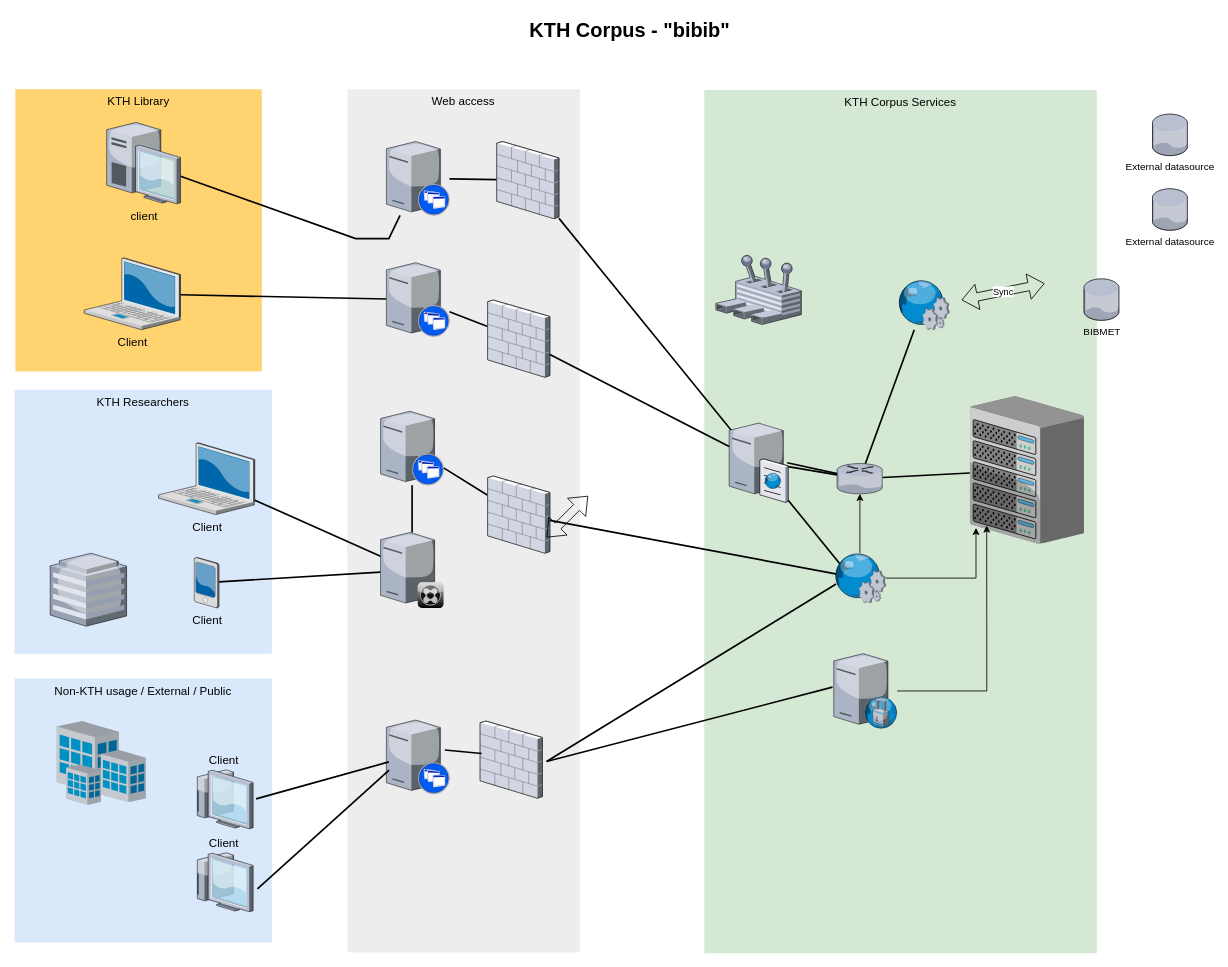
Some shapes in this 1228 by 967 pixel diagram are drawn without their labels. Here are the shapes that lost their labels. From the top down, the centre of each, then its label:
At [758,289]: "Tooling".
At [923,304]: "Harvesters".
At [758,461]: "Kontarion UI".
At [859,478]: "Object storage (min.io)".
At [1026,469]: "Apache Spark".
At [859,578]: "APIs/Apps".
At [865,690]: "Archive".
